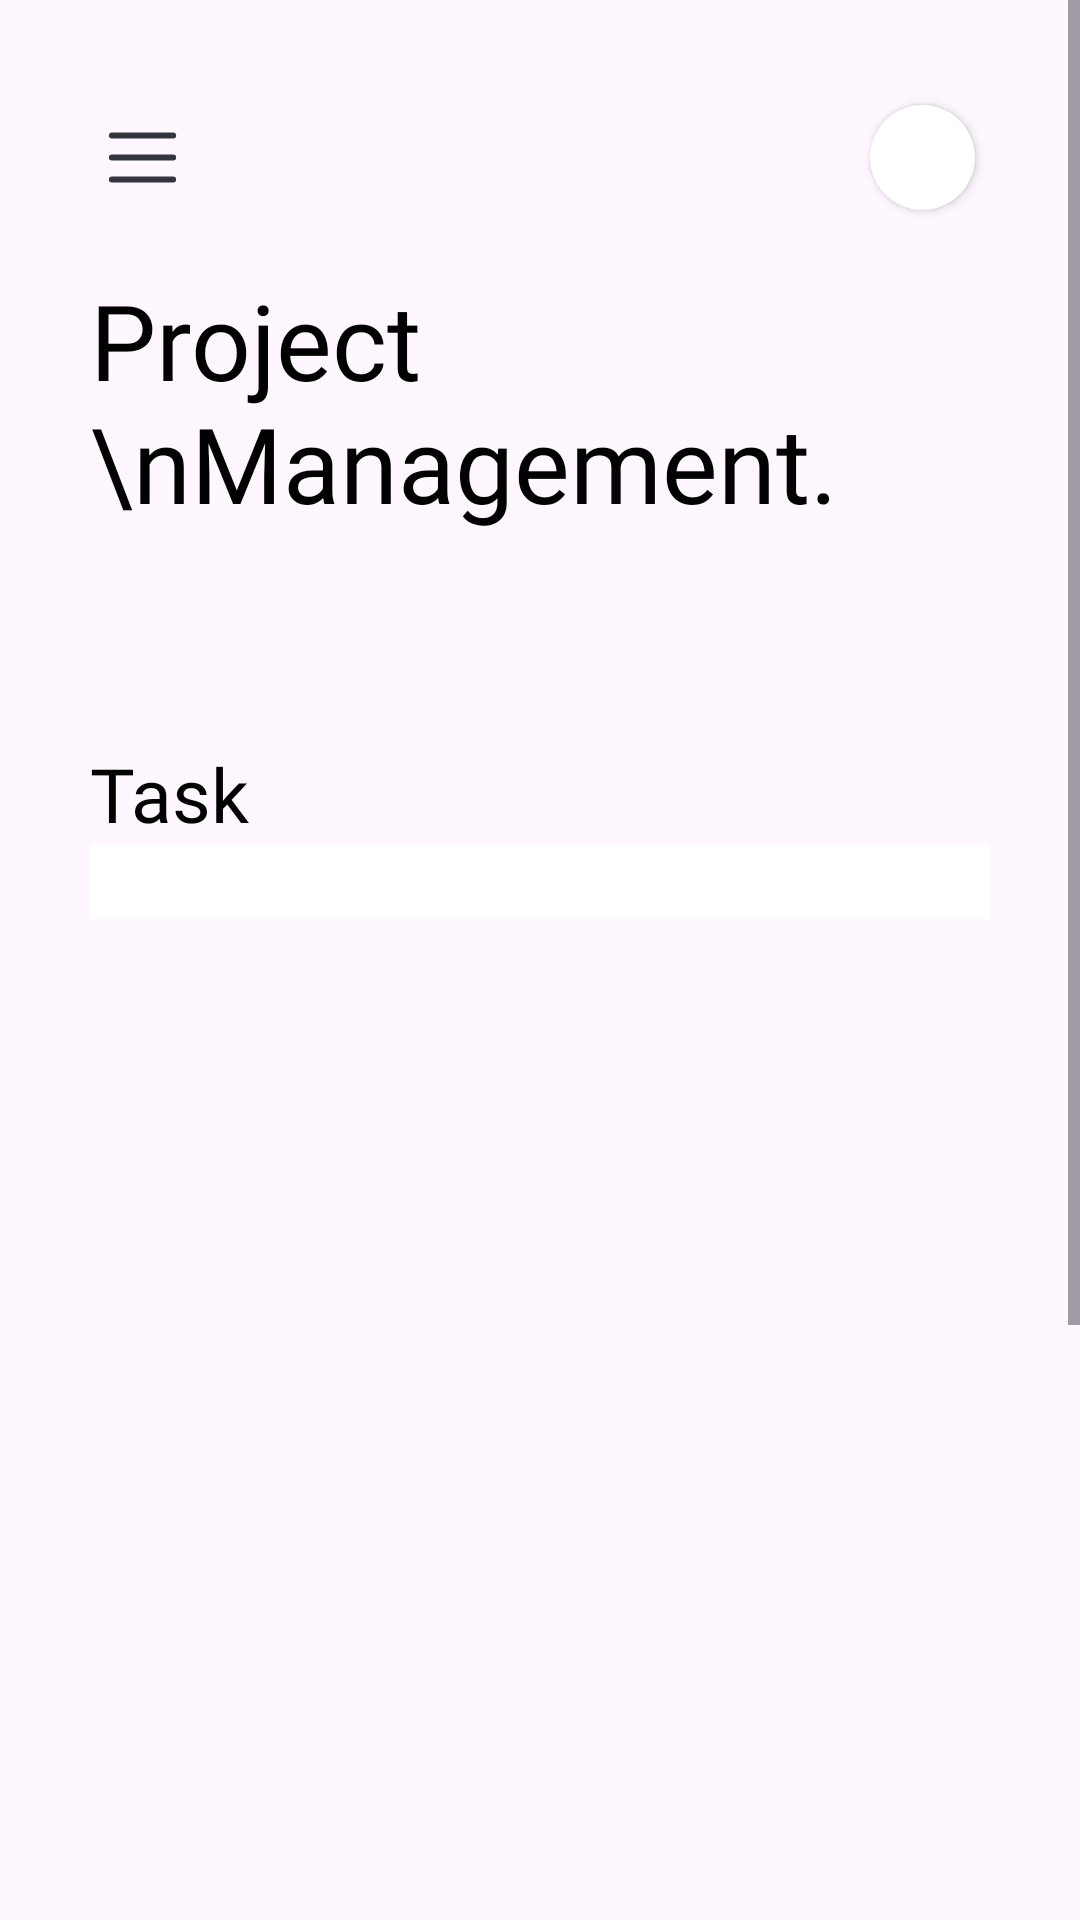

Where icons sit on this 1080×1920 app screen, as (x1, y1, x2, y2):
menu: (108, 132, 177, 183)
